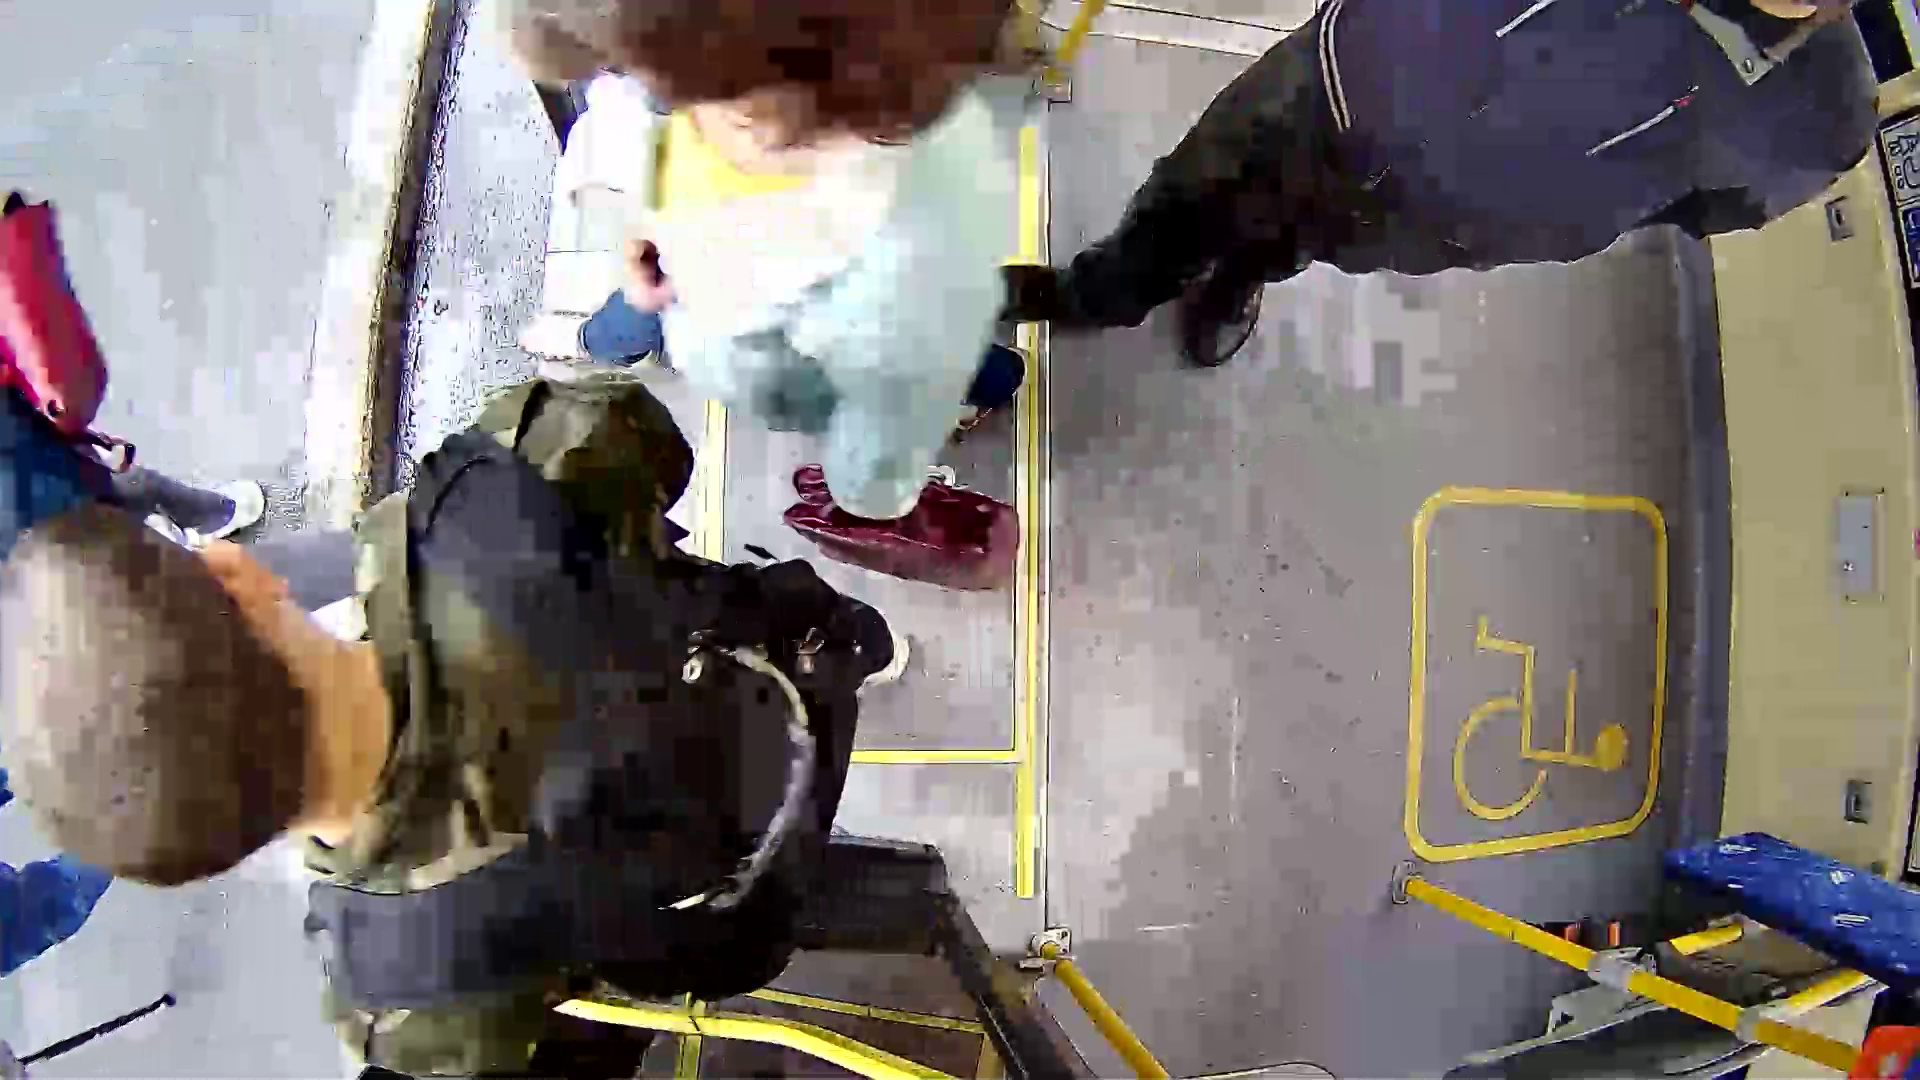person: (36, 413, 1004, 988), (428, 24, 1175, 497)
